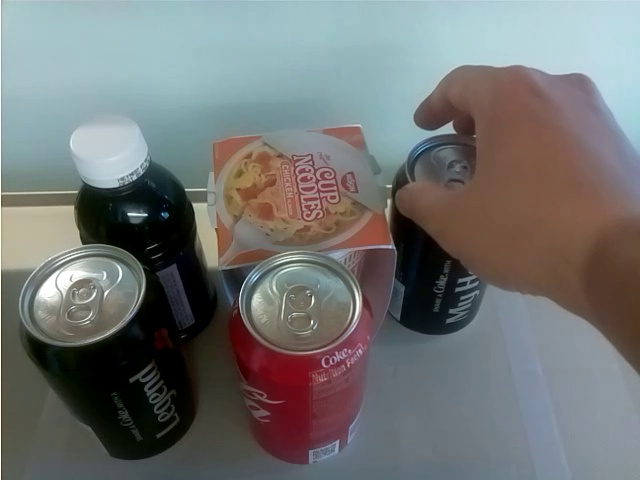cocacola: (20, 238, 199, 460), (225, 249, 374, 469), (390, 134, 495, 335)
hand: (395, 60, 640, 300)
juice: (67, 110, 214, 344)
noodles: (206, 117, 394, 337)
